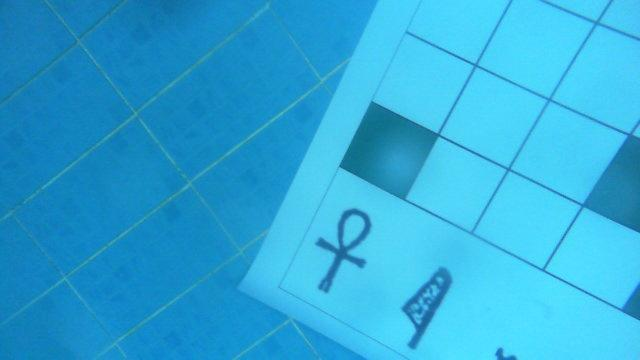Ankh: (315, 208, 375, 299)
Reed: (401, 266, 454, 350)
